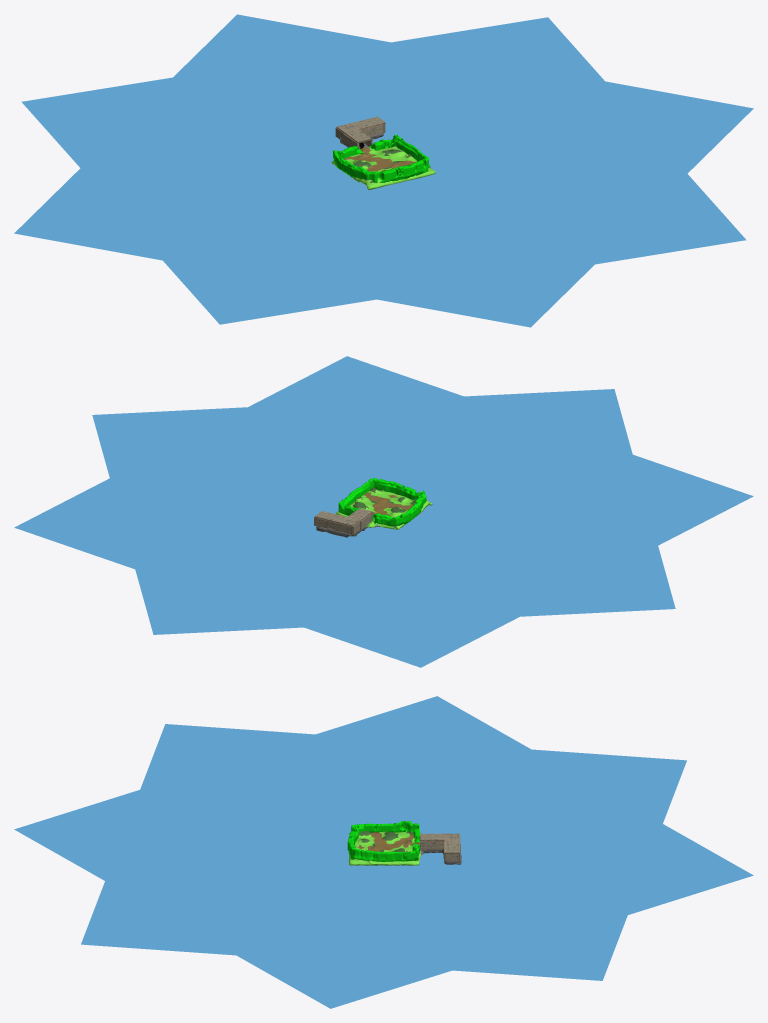
Rendered from map.glb.
The picture shows the model from 3 angles, top to bottom: view 1: azimuth 30°, elevation 25°; view 2: azimuth 150°, elevation 25°; view 3: azimuth 270°, elevation 25°; orthographic projection. The views are drawn at different scales.
Visible parts, largest first — view 1: Cube.002, Plane.001; view 2: Cube.002, Plane.001; view 3: Cube.002, Plane.001.
Part boxes in pixels (bbox=[...]): Cube.002: bbox=[14, 14, 753, 327]; Plane.001: bbox=[331, 133, 435, 189]; Cube.002: bbox=[14, 356, 753, 667]; Plane.001: bbox=[316, 478, 432, 537]; Cube.002: bbox=[14, 696, 753, 1008]; Plane.001: bbox=[347, 821, 461, 865].
Bounding box in the file's own units: 304 × 7.49 × 304.
Materials: 12 (4 with a texture image).
